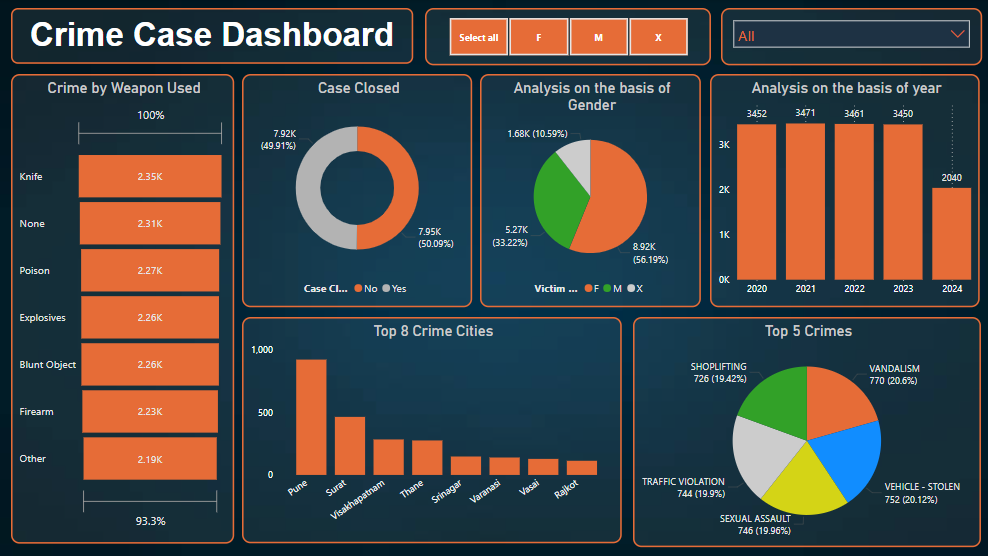

What the dashboard file says about the page in this screenshot:
{"tool":"powerbi","page":{"name":"Dashboard","canvas":[1280,720],"ordinal":0},"visuals":[{"type":"textbox","box":[14.2,11.6,518.7,72.3],"z":0},{"type":"columnChart","title":"Top 8 Crime Cities","fields":{"Y":["CountNonNull(crime_dataset_india.Crime Description)"],"Category":["crime_dataset_india.City"]},"box":[312.4,410.2,490,291.8],"z":1000},{"type":"pieChart","title":"Top 5 Crimes","fields":{"Category":["crime_dataset_india.Crime Description"],"Y":["CountNonNull(crime_dataset_india.City)"]},"box":[816.2,410.2,448.7,297.3],"z":2000},{"type":"columnChart","title":"Analysis on the basis of year","fields":{"Category":["crime_dataset_india.Date Reported.Variation.Date Hierarchy.Year"],"Y":["CountNonNull(crime_dataset_india.Crime Description)"]},"box":[916.6,96.3,348.2,301.4],"z":3000},{"type":"pieChart","title":"Analysis on the basis of Gender","fields":{"Series":["crime_dataset_india.Victim Gender"],"Y":["CountNonNull(crime_dataset_india.Crime Description)"]},"box":[619.4,96.3,284.9,301.4],"z":4000},{"type":"slicer","fields":{"Values":["crime_dataset_india.City"]},"box":[930.3,11.6,336.8,73.5],"z":5000},{"type":"slicer","fields":{"Values":["crime_dataset_india.Victim Gender"]},"box":[548.4,11.6,369,73.5],"z":6000},{"type":"donutChart","title":"Case Closed","fields":{"Category":["crime_dataset_india.Case Closed"],"Y":["CountNonNull(crime_dataset_india.City)"]},"box":[312.4,96.3,297.3,301.4],"z":7000},{"type":"funnel","title":"Crime by Weapon Used","fields":{"Category":["crime_dataset_india.Weapon Used"],"Y":["CountNonNull(crime_dataset_india.Crime Description)"]},"box":[13.8,96.3,287.7,605.6],"z":8000}]}

Visuals, with their boxes in screenshot pixels (x1, y1, x2, y2), scaled from the page's 1280x720 canvas onto the 988x556 screenshot:
textbox: [x1=11, y1=9, x2=411, y2=65]
"Top 8 Crime Cities" columnChart: [x1=241, y1=317, x2=619, y2=542]
"Top 5 Crimes" pieChart: [x1=630, y1=317, x2=976, y2=546]
"Analysis on the basis of year" columnChart: [x1=708, y1=74, x2=976, y2=307]
"Analysis on the basis of Gender" pieChart: [x1=478, y1=74, x2=698, y2=307]
slicer - crime_dataset_india.City: [x1=718, y1=9, x2=978, y2=66]
slicer - crime_dataset_india.Victim Gender: [x1=423, y1=9, x2=708, y2=66]
"Case Closed" donutChart: [x1=241, y1=74, x2=471, y2=307]
"Crime by Weapon Used" funnel: [x1=11, y1=74, x2=233, y2=542]
